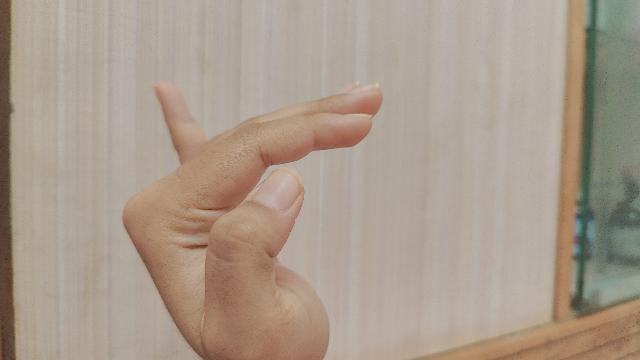Hamsapaksha: (120, 82, 384, 360)
